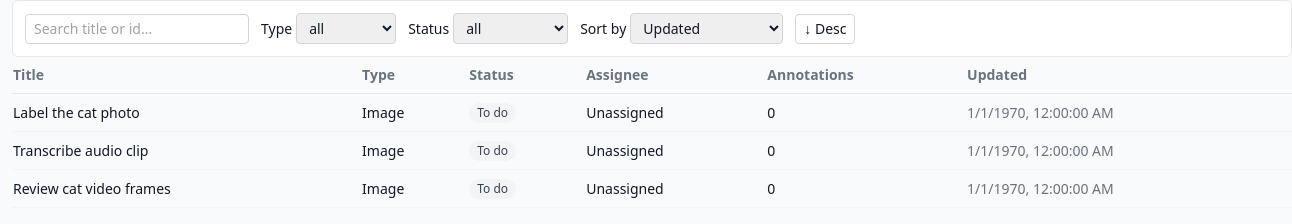
Scenario: TaskTable + FiltersBar integration › updates the visible rows when the user types in the search box
The image size is (1292, 224).
Expected: the text "Label the cat photo" is shown, [12, 94, 361, 132]
Expected: the text "Transcribe audio clip" is shown, [12, 132, 361, 170]
Type "cat" into the field named "Search tasks" at (137, 28), box [25, 14, 249, 44]
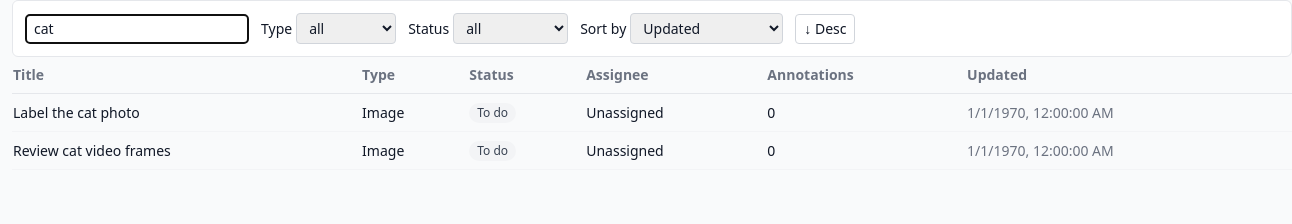
Expected: the text "Label the cat photo" is shown, [12, 94, 361, 132]
Expected: the text "Transcribe audio clip" is gone
